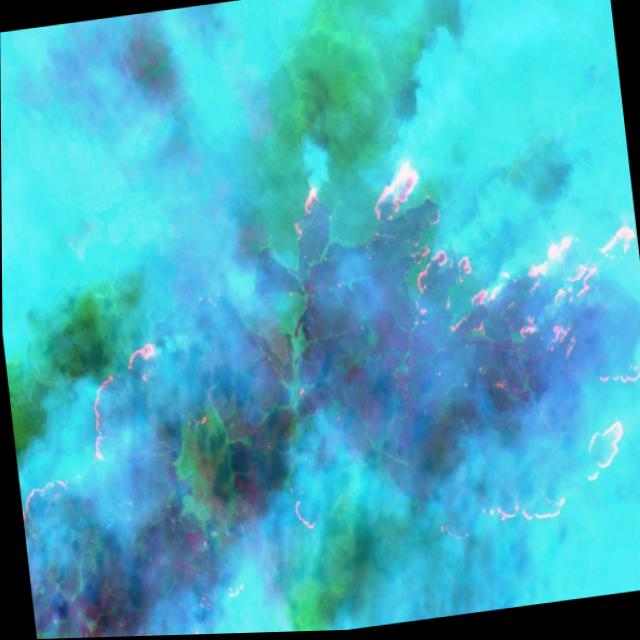fire: (1, 119, 640, 640)
